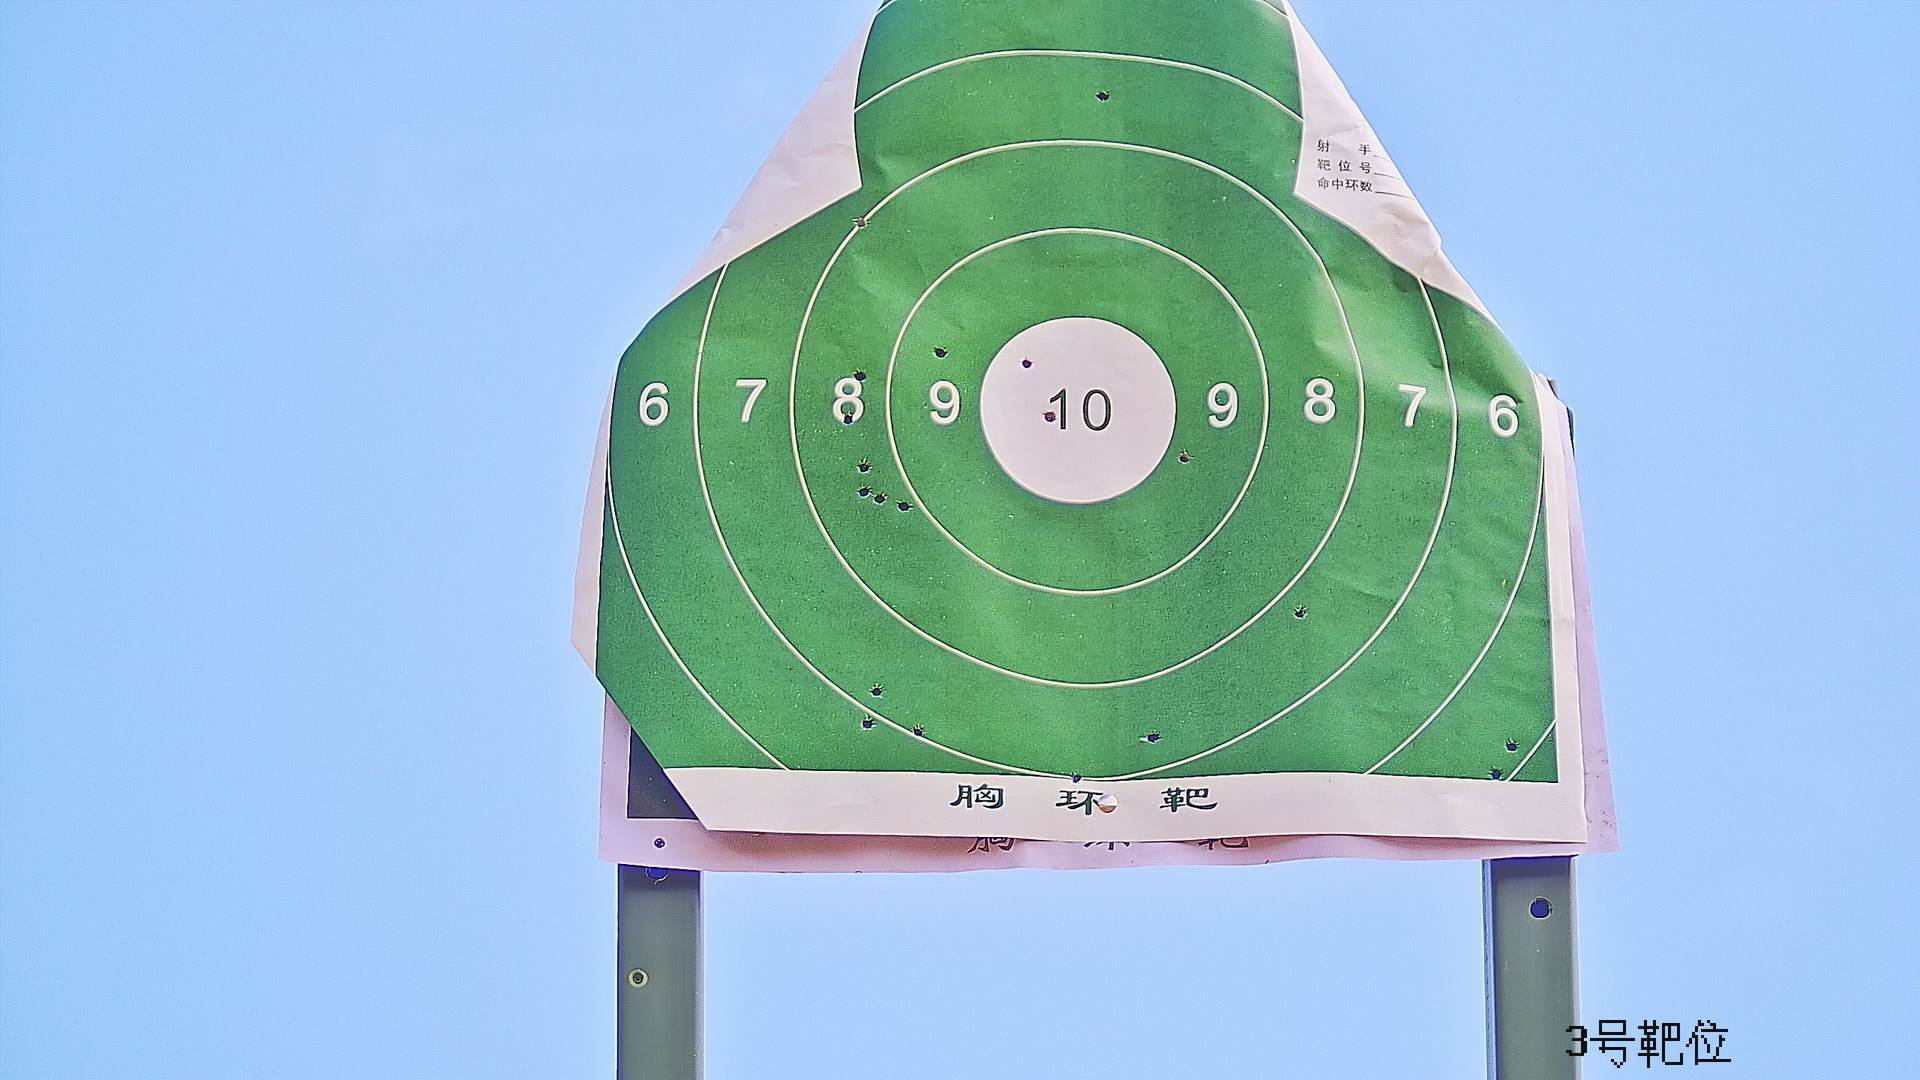hole: (1292, 607, 1311, 620), (1040, 410, 1058, 423), (1489, 766, 1503, 781), (873, 491, 886, 505), (870, 683, 884, 698), (1505, 738, 1518, 753), (852, 369, 868, 381), (898, 500, 911, 513), (1179, 450, 1192, 463), (858, 459, 870, 473), (1022, 356, 1034, 371), (1098, 88, 1110, 102), (1146, 731, 1159, 742), (934, 345, 947, 357), (861, 717, 876, 728), (855, 216, 868, 227), (843, 411, 853, 423), (1072, 771, 1083, 783), (914, 725, 923, 737), (858, 487, 868, 496)
target: (596, 1, 1559, 785)
ten: (978, 318, 1179, 504)
